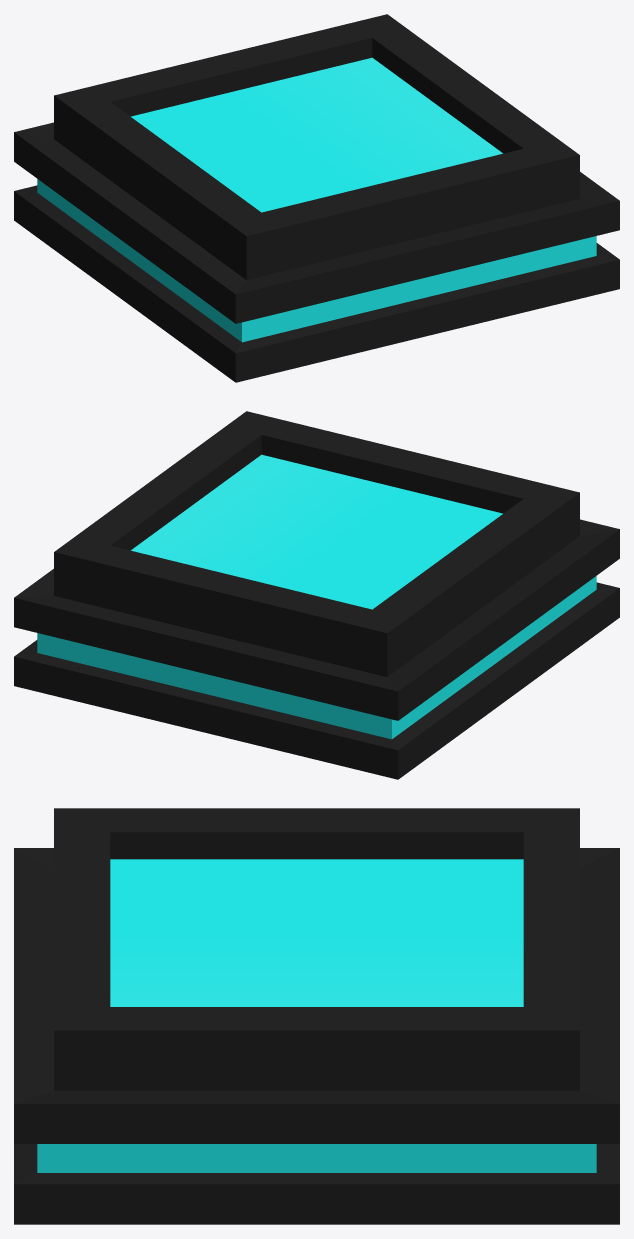
Rendered from Goal_Base.fbx.
3 renders of one model, top to bottom at view 1: azimuth 30°, elevation 25°; view 2: azimuth 150°, elevation 25°; view 3: azimuth 270°, elevation 25°, orthographic. The views are drawn at different scales.
Visible parts, largest first — view 1: Base; view 2: Base; view 3: Base.
Part boxes in pixels (x1,y1,x2,y2): Base: (14, 14, 619, 382); Base: (14, 411, 619, 779); Base: (14, 808, 619, 1224).
Bounding box in the file's own units: 0.7753 × 0.2498 × 0.7753.
